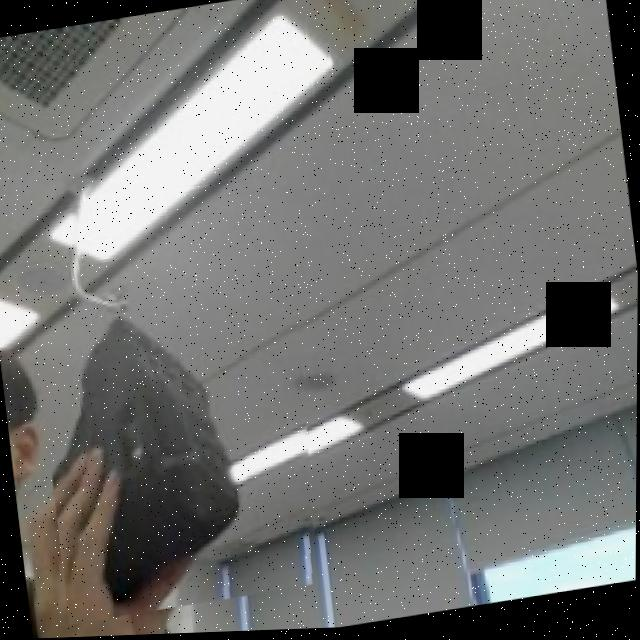shoe: (30, 258, 336, 627)
